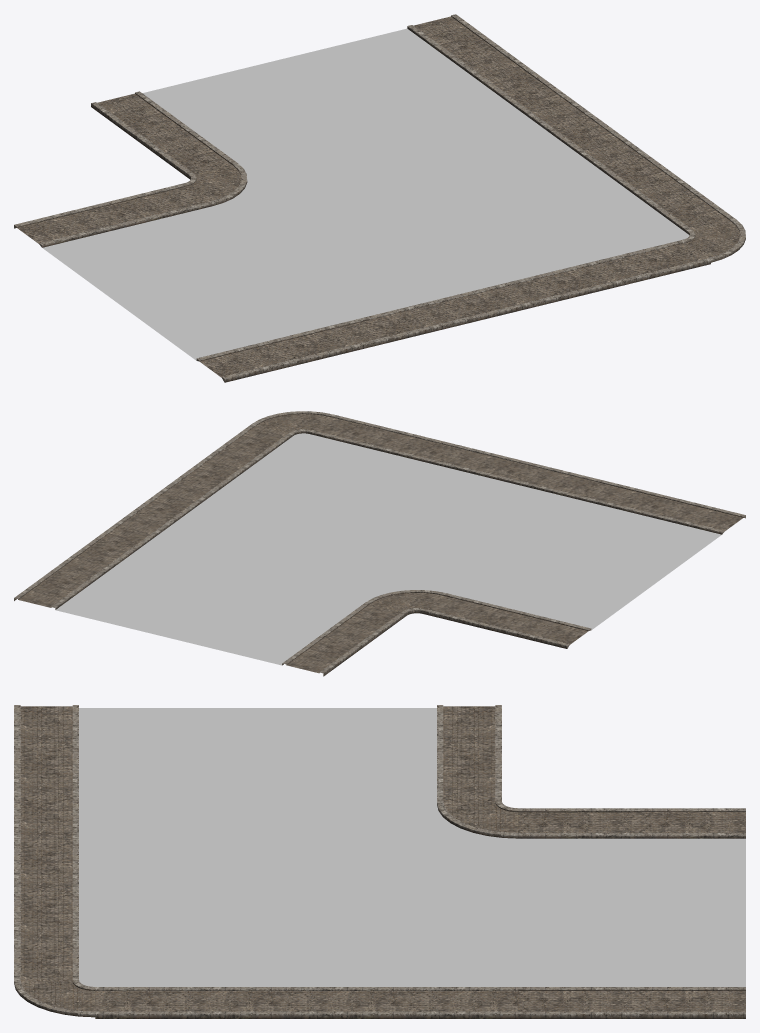
Rendered from Road5B.fbx.
3 renders of one model, top to bottom at view 1: azimuth 30°, elevation 25°; view 2: azimuth 150°, elevation 25°; view 3: azimuth 270°, elevation 25°, orthographic. The views are drawn at different scales.
Visible parts, largest first — view 1: polySurface69; view 2: polySurface69; view 3: polySurface69.
Part boxes in pixels (x1,y1,x2,y2): polySurface69: (14, 14, 745, 382); polySurface69: (14, 411, 745, 676); polySurface69: (14, 705, 745, 1018).
Size of the model in its own units: 22.5 by 0.1527 by 22.5.
